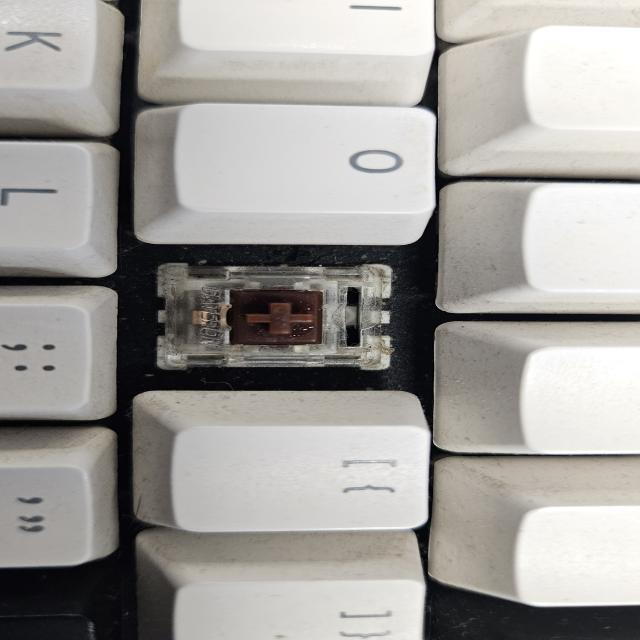C: (188, 270, 386, 364)
